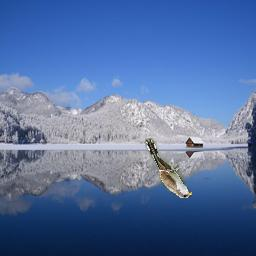Cuckoo: (146, 138, 193, 198)
